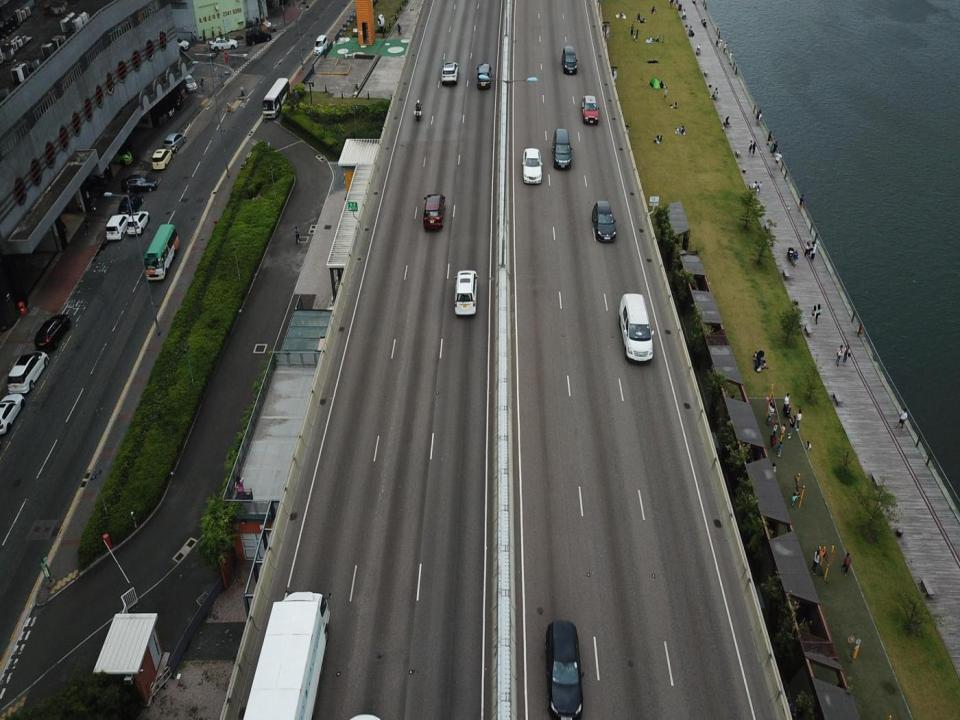bus: (142, 221, 179, 282), (262, 77, 290, 122)
car: (542, 620, 586, 719), (8, 348, 48, 394), (452, 267, 479, 318), (36, 313, 71, 350), (591, 199, 617, 242), (0, 392, 26, 433), (422, 193, 447, 231), (520, 147, 544, 183), (579, 90, 599, 127), (116, 174, 156, 192), (105, 211, 128, 239), (127, 209, 148, 236), (441, 58, 460, 86), (118, 190, 142, 212), (151, 147, 173, 171), (246, 26, 272, 45), (180, 67, 198, 93), (208, 36, 238, 51), (476, 58, 491, 88), (164, 132, 186, 152), (164, 36, 189, 50), (313, 33, 329, 53)
truck: (241, 587, 334, 719)
van: (618, 292, 657, 362), (552, 128, 572, 170), (561, 44, 577, 74)
